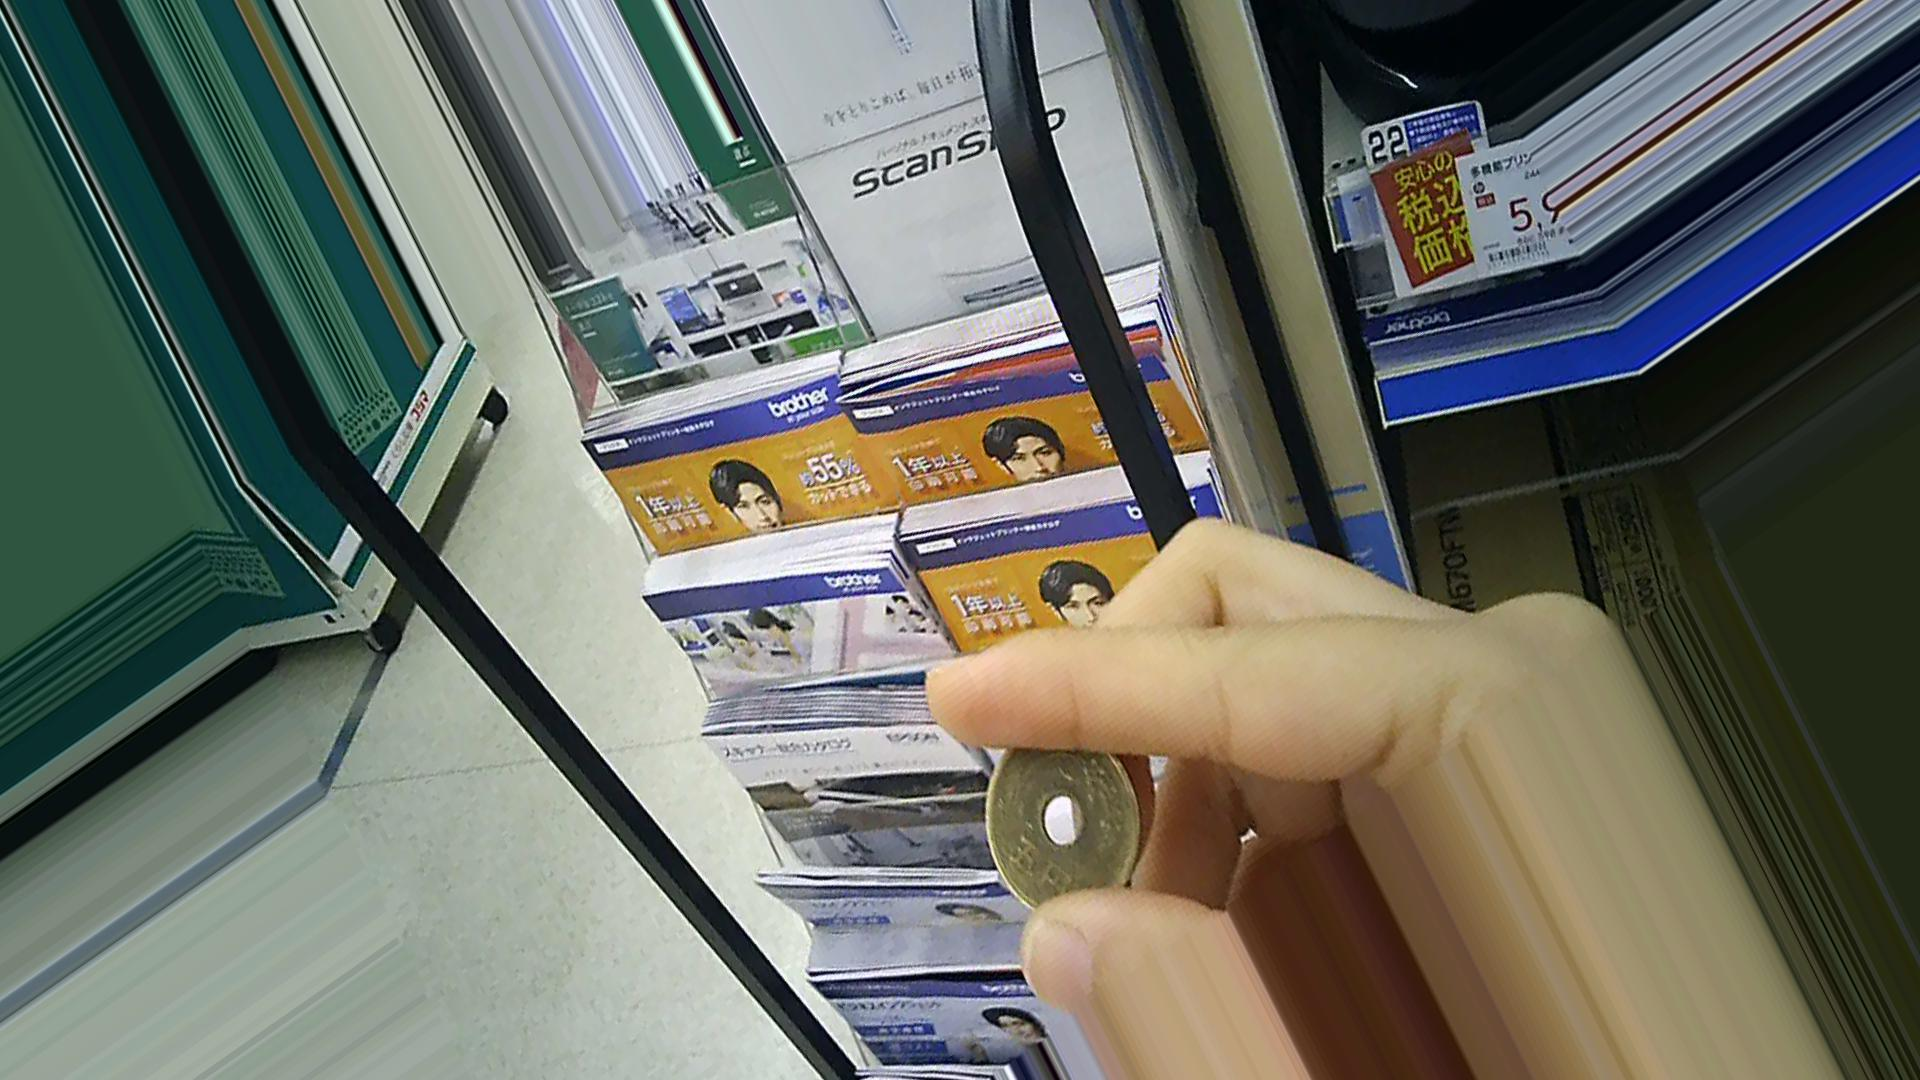5 Yen: (965, 742, 1151, 918)
